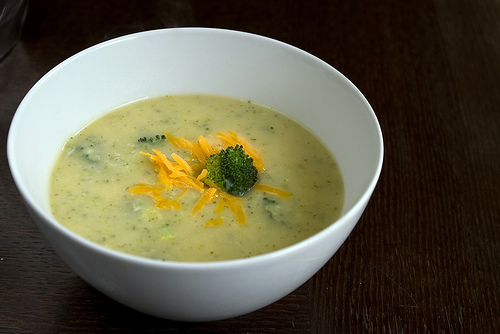broccoli: (204, 144, 256, 195)
